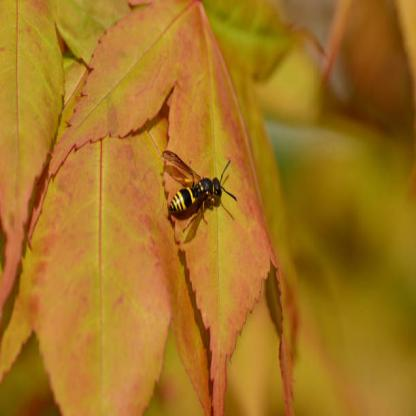sawfly: (164, 140, 236, 250)
